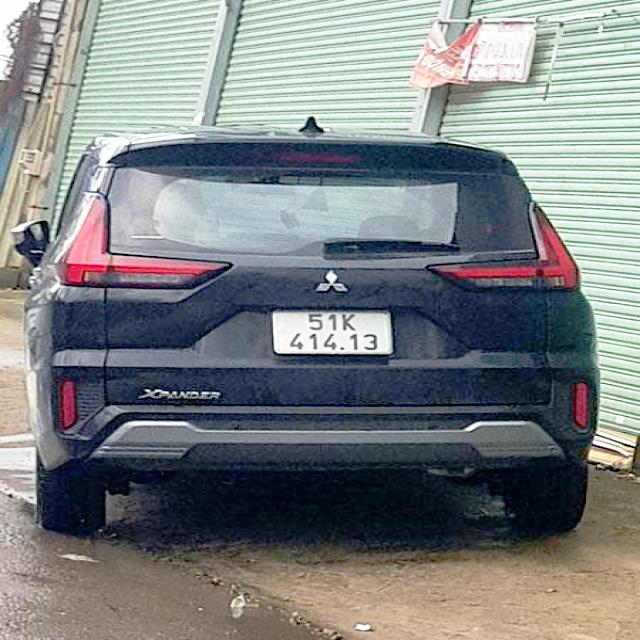license_plate: (275, 312, 392, 357)
